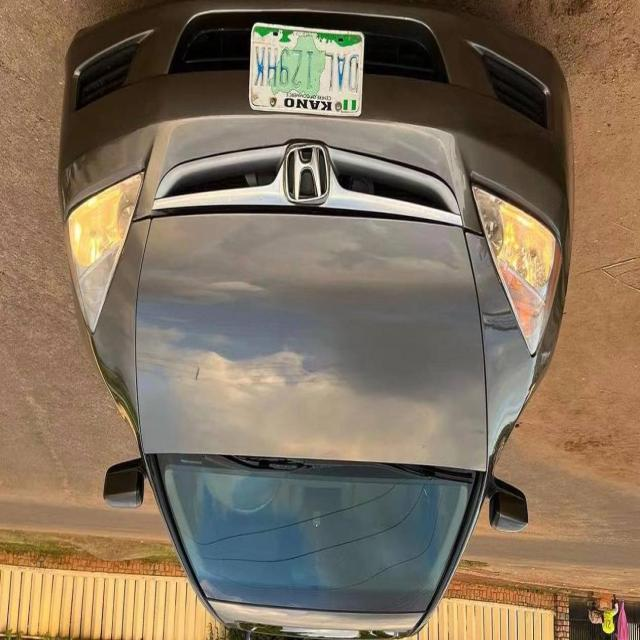Nigerian License Plate - vdataset benjamin-daria: (250, 25, 364, 118)
